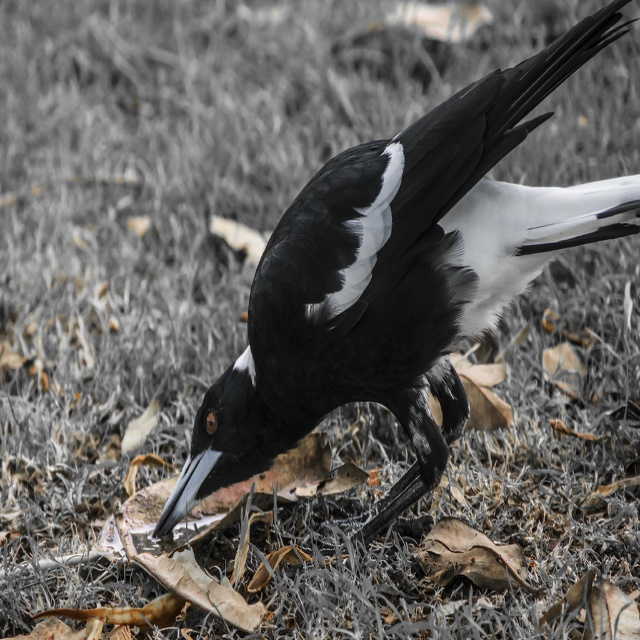Magpie: (156, 3, 640, 566)
